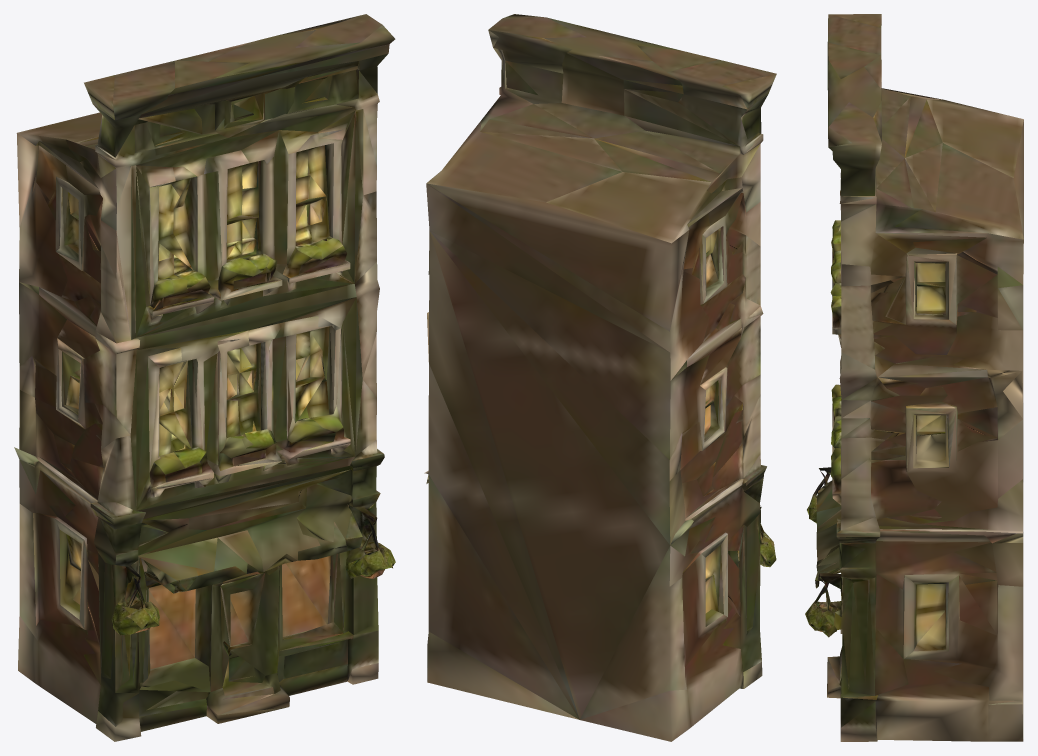
Rendered from getkong-haus4.glb.
The picture shows the model from 3 angles, left to right: view 1: azimuth 30°, elevation 25°; view 2: azimuth 150°, elevation 25°; view 3: azimuth 270°, elevation 25°; orthographic projection. The views are drawn at different scales.
Parts seen in each view (by area): view 1: output_unwrapped; view 2: output_unwrapped; view 3: output_unwrapped.
Boxes of the visible parts, bbox=[...] form: output_unwrapped: bbox=[14, 14, 395, 741]; output_unwrapped: bbox=[424, 14, 776, 741]; output_unwrapped: bbox=[805, 14, 1023, 741].
Bounding box in the file's own units: 0.8716 × 1.9 × 0.6243.
1 material, 1 textured.
